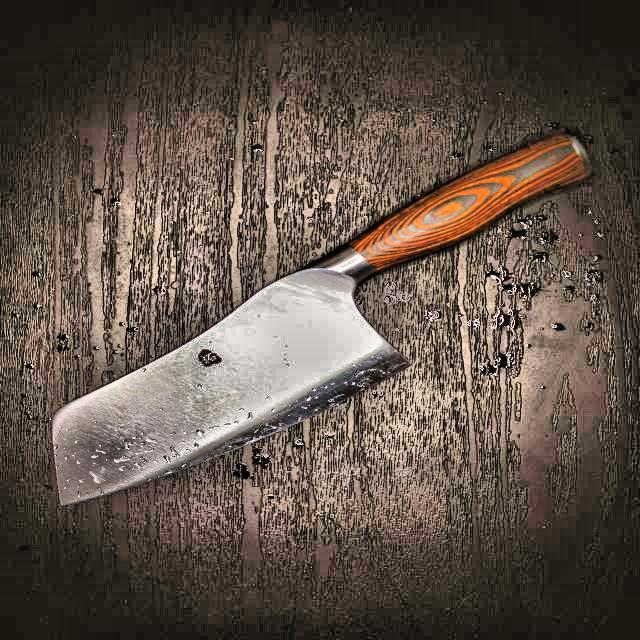knife: (49, 114, 600, 515)
